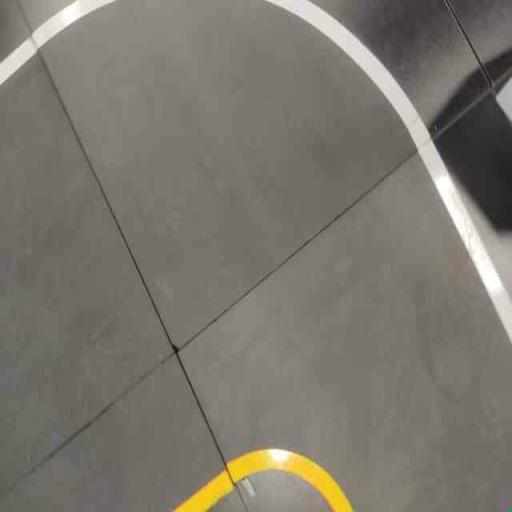left: (27, 0, 511, 511)
